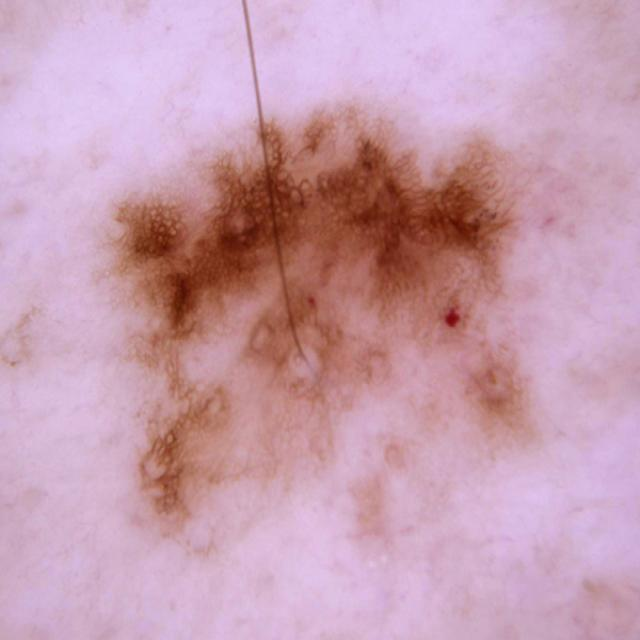NV: (92, 97, 540, 569)
